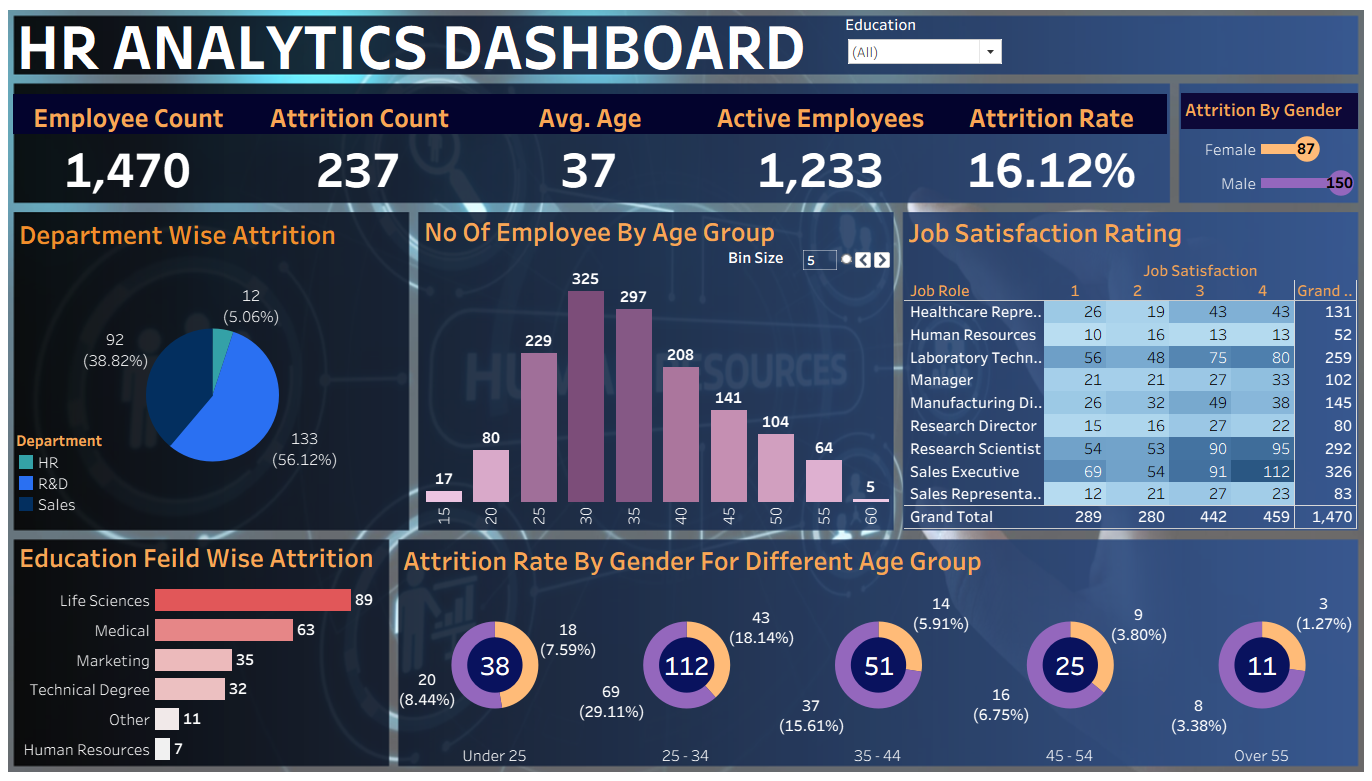

This screenshot's page, from the dashboard's own definition file:
{"tool":"tableau","page":{"name":"HR Analytics Dashboard","canvas":[1380,900],"ordinal":0},"visuals":[{"type":"image","param":"C:/Users/SNEHA SEN/Downloads/HR background.pptx.png","box":[8,8,1364,884]},{"type":"filter","title":"Department Wise Attrition","param":"[federated.0grmzii1s7kw441avq4p91jagy4i].[none:Education:nk]","box":[849,16,160,58]},{"type":"text","box":[17,17,1347,58]},{"type":"worksheet","title":"Attrition By Gender","mark":"Automatic","rows":["Gender"],"cols":["Calculation_1586393007522349056","Calculation_1586393007522349056"],"box":[1185,95,177,107]},{"type":"worksheet","title":"KPI","mark":"Automatic","box":[17,96,1154,108]},{"type":"worksheet","title":"No of Employee By Age Group","mark":"Automatic","rows":["Employee Count"],"cols":["Age (bin)"],"box":[424,212,475,319]},{"type":"worksheet","title":"Job Satisfaction Rating","mark":"Square","rows":["Job Role"],"cols":["Job Satisfaction"],"box":[908,213,453,318]},{"type":"worksheet","title":"Department Wise Attrition","mark":"Pie","box":[19,215,395,315]},{"type":"parameter","param":"[Parameters].[Parameter 1]","box":[731.9,249,165.1,31]},{"type":"legend","title":"Department Wise Attrition","param":"[federated.0grmzii1s7kw441avq4p91jagy4i].[none:Department:nk]","box":[20,432,123,95]},{"type":"worksheet","title":"Education Field Wise Attrition ","mark":"Automatic","rows":["Education Field"],"cols":["Calculation_1586393007522349056"],"box":[19,538,373,228]},{"type":"worksheet","title":"Attrition Rate By Gender For Different Age Group","mark":"Pie","rows":["Calculation_1586393007557451780","Calculation_1586393007557451780"],"cols":["CF_age band"],"box":[403,541,959,228]}]}

Visuals, with their boxes on the page's 1380x900 design canvas (x1, y1, x2, y2). These are canvas units, not pixel positions in the 1372x781 screenshot, which may show the page scaled, cropped or inside an application window:
image: rect(8, 8, 1372, 892)
"Department Wise Attrition" filter: rect(849, 16, 1009, 74)
text: rect(17, 17, 1364, 75)
"Attrition By Gender" worksheet: rect(1185, 95, 1362, 202)
"KPI" worksheet: rect(17, 96, 1171, 204)
"No of Employee By Age Group" worksheet: rect(424, 212, 899, 531)
"Job Satisfaction Rating" worksheet (Square marks): rect(908, 213, 1361, 531)
"Department Wise Attrition" worksheet (Pie marks): rect(19, 215, 414, 530)
parameter: rect(732, 249, 897, 280)
"Department Wise Attrition" legend: rect(20, 432, 143, 527)
"Education Field Wise Attrition " worksheet: rect(19, 538, 392, 766)
"Attrition Rate By Gender For Different Age Group" worksheet (Pie marks): rect(403, 541, 1362, 769)
